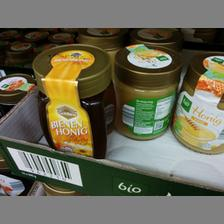Honig: (30, 43, 118, 160), (114, 43, 178, 141), (169, 46, 223, 152)
